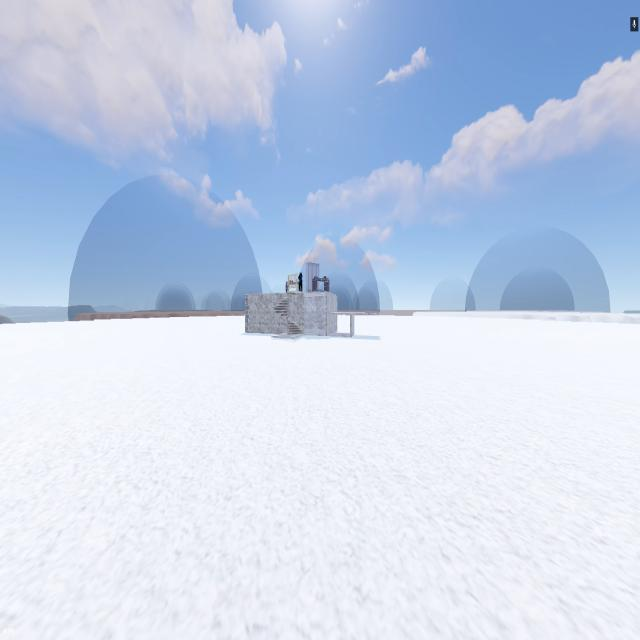Player: (298, 272, 302, 292)
